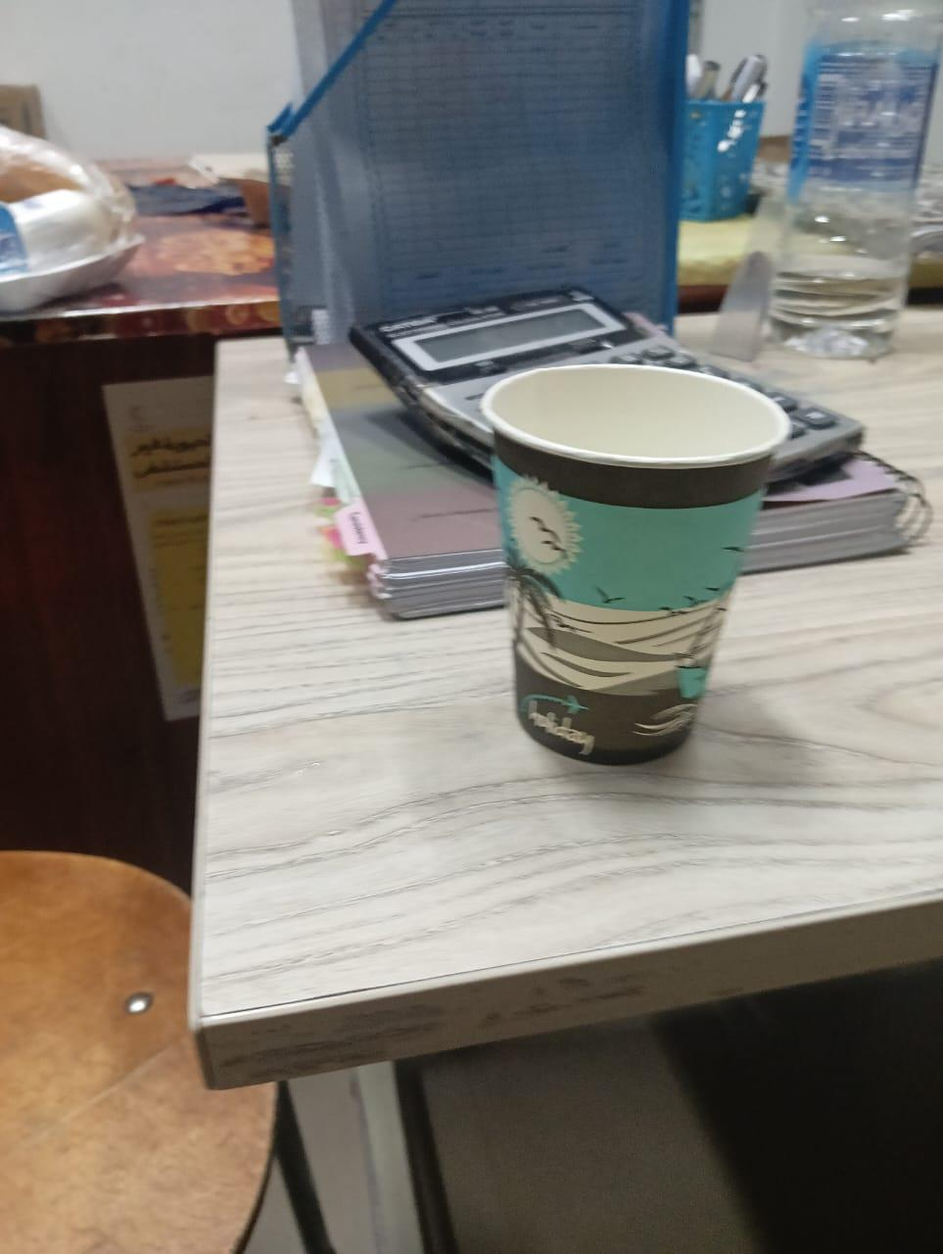cup: (483, 364, 787, 762)
